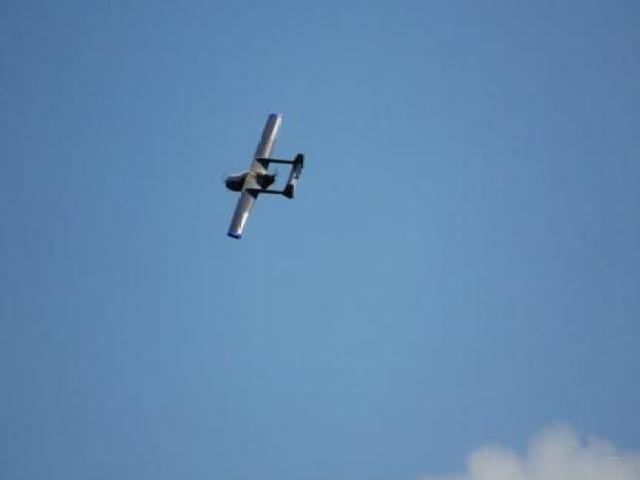uav: (221, 110, 308, 239)
